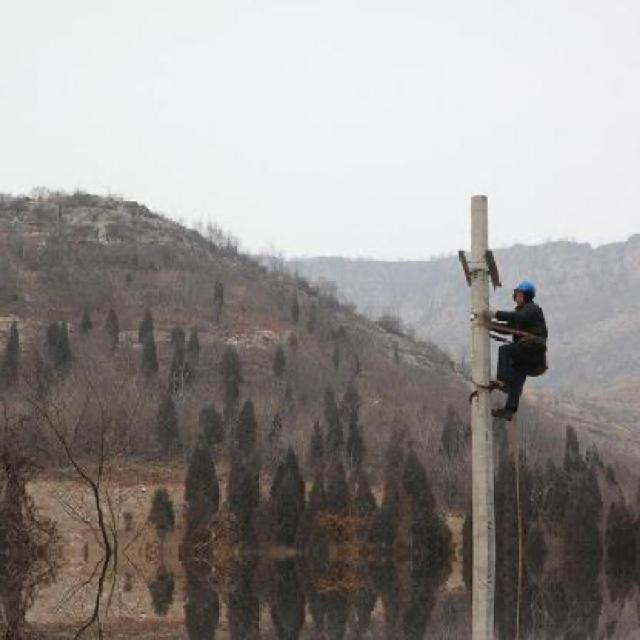helmet: (509, 276, 538, 306)
